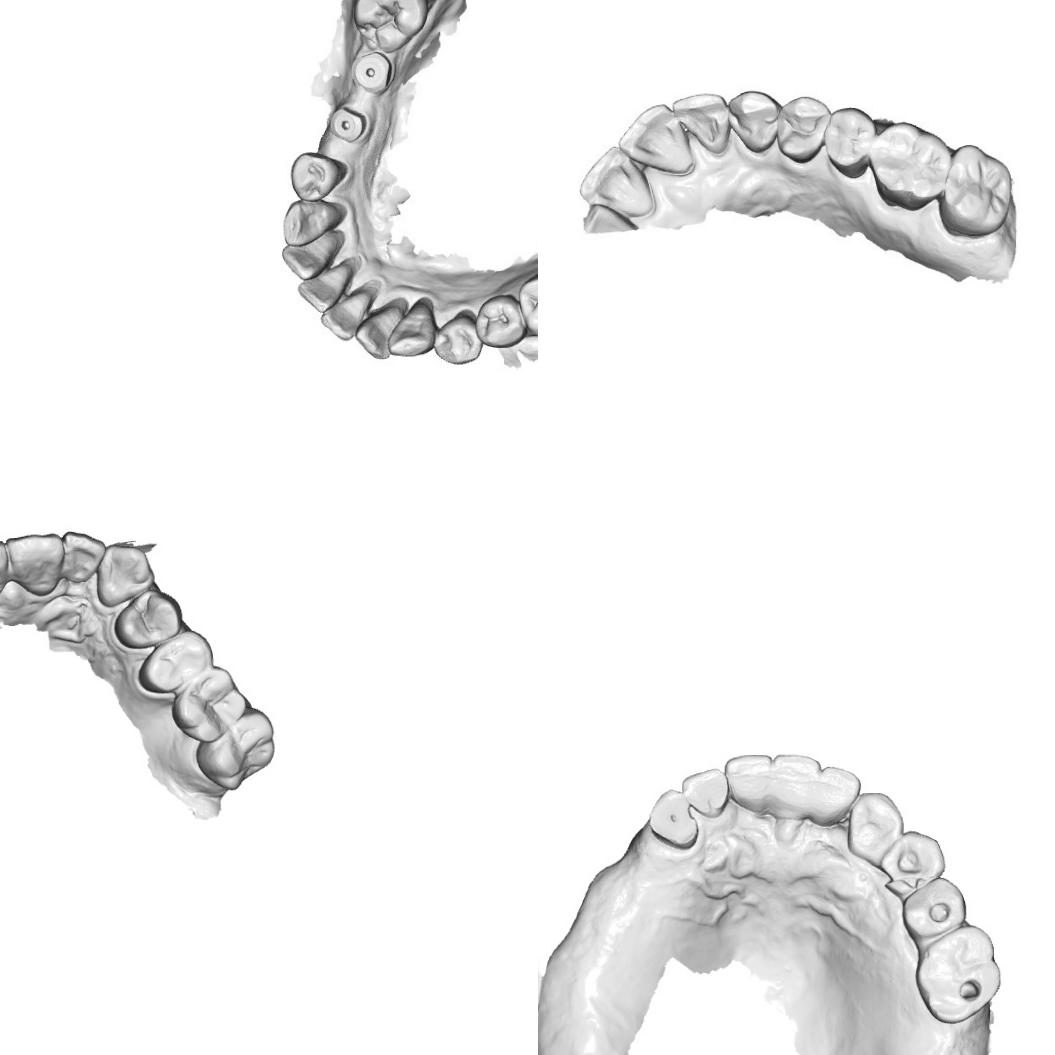canine: (94, 541, 156, 611), (845, 791, 905, 863), (384, 294, 438, 360), (278, 197, 344, 249), (646, 788, 699, 849), (735, 88, 776, 148)
implant: (346, 52, 395, 96), (328, 102, 366, 146)
incisor: (582, 144, 658, 219), (622, 106, 691, 178), (5, 530, 66, 598), (770, 752, 822, 822), (676, 89, 729, 157), (722, 752, 775, 816), (810, 765, 861, 828), (354, 298, 404, 360), (319, 285, 368, 344), (62, 527, 109, 585), (680, 766, 730, 820), (294, 266, 350, 313), (282, 235, 339, 279)
molar: (913, 923, 1003, 1025), (191, 703, 279, 793), (934, 139, 1011, 238), (866, 120, 946, 212), (169, 662, 251, 744), (353, 0, 421, 49), (515, 262, 538, 340)
premolar: (135, 625, 217, 698), (111, 586, 186, 651), (878, 829, 946, 897), (900, 876, 968, 941), (771, 95, 827, 163), (820, 108, 872, 176), (472, 290, 526, 352), (288, 149, 348, 202), (431, 308, 482, 367)
